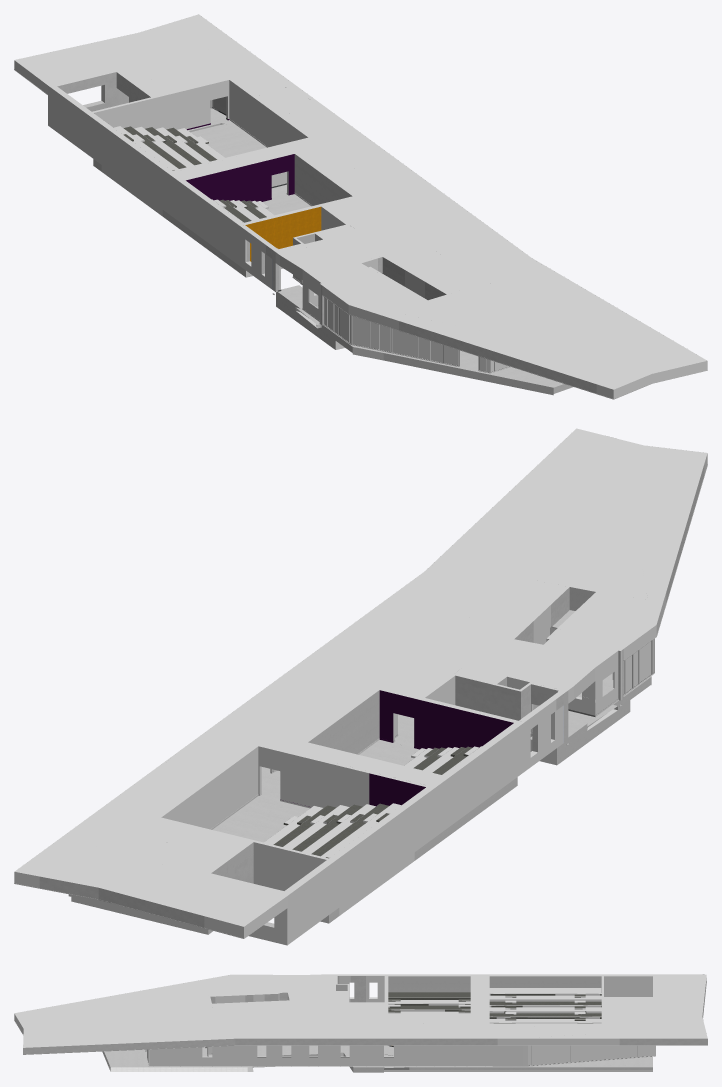
Rendered from 0_floor_aisle_b_sized_v5.glb.
The picture shows the model from 3 angles, top to bottom: view 1: azimuth 30°, elevation 25°; view 2: azimuth 150°, elevation 25°; view 3: azimuth 270°, elevation 25°; orthographic projection. The views are drawn at different scales.
Parts seen in each view (by area): view 1: SIMP_COL, NOCOL_Cube_030, NOCOL_Cube_012, NOCOL_Cube_065; view 2: SIMP_COL, NOCOL_Cube_030, NOCOL_Cube_012, NOCOL_Cube_065; view 3: SIMP_COL, NOCOL_Cube_030, NOCOL_Cube_065, NOCOL_Cube_012.
Part boxes in pixels (<box>): SIMP_COL: <box>14,14,707,399</box>; NOCOL_Cube_030: <box>57,72,509,373</box>; NOCOL_Cube_012: <box>93,108,572,395</box>; NOCOL_Cube_065: <box>14,69,706,399</box>; SIMP_COL: <box>14,428,707,945</box>; NOCOL_Cube_030: <box>210,587,654,927</box>; NOCOL_Cube_012: <box>68,673,651,934</box>; NOCOL_Cube_065: <box>14,464,707,938</box>; SIMP_COL: <box>14,974,707,1071</box>; NOCOL_Cube_030: <box>145,976,655,1066</box>; NOCOL_Cube_065: <box>14,974,707,1054</box>; NOCOL_Cube_012: <box>102,1045,652,1072</box>.
Size of what is drawn, in the model's own units: 19.02 by 4.99 by 75.13.
16 materials, 7 textured.
